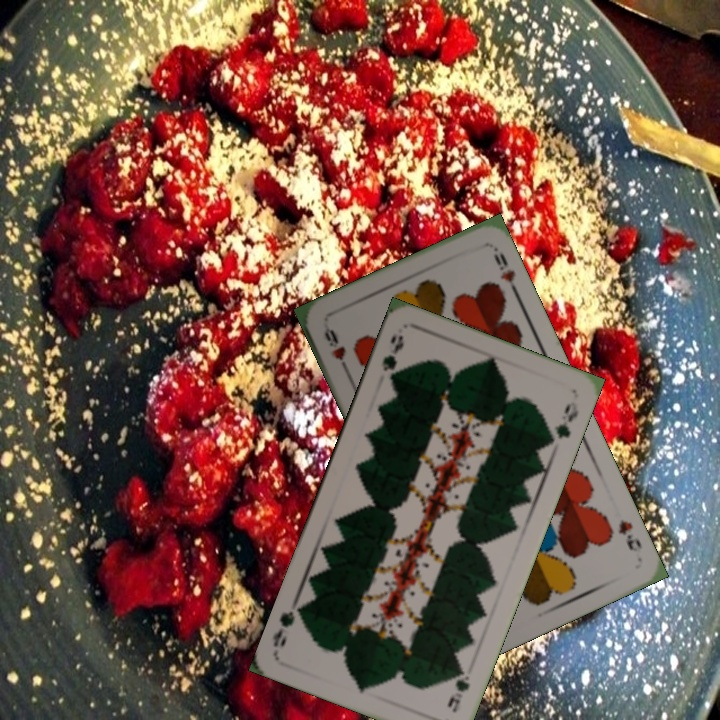G9: (378, 331, 407, 387), (443, 661, 473, 715)
H9: (320, 321, 353, 377), (614, 515, 645, 559)
